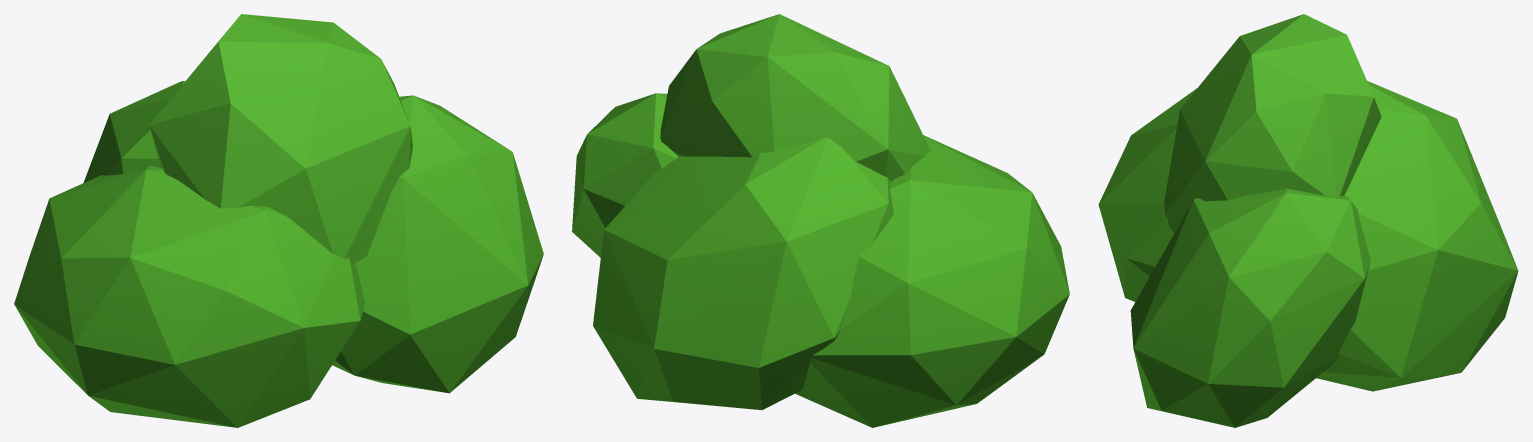
File: Bush_3.fbx
3 renders of one model, left to right at view 1: azimuth 30°, elevation 25°; view 2: azimuth 150°, elevation 25°; view 3: azimuth 270°, elevation 25°, orthographic. The views are drawn at different scales.
Parts seen in each view (by area): view 1: Bush_3; view 2: Bush_3; view 3: Bush_3.
Part boxes in pixels (x1,y1,x2,y2): Bush_3: (14, 14, 543, 427); Bush_3: (572, 14, 1069, 427); Bush_3: (1098, 14, 1518, 427).
Bounding box in the file's own units: 399 × 274 × 318.
